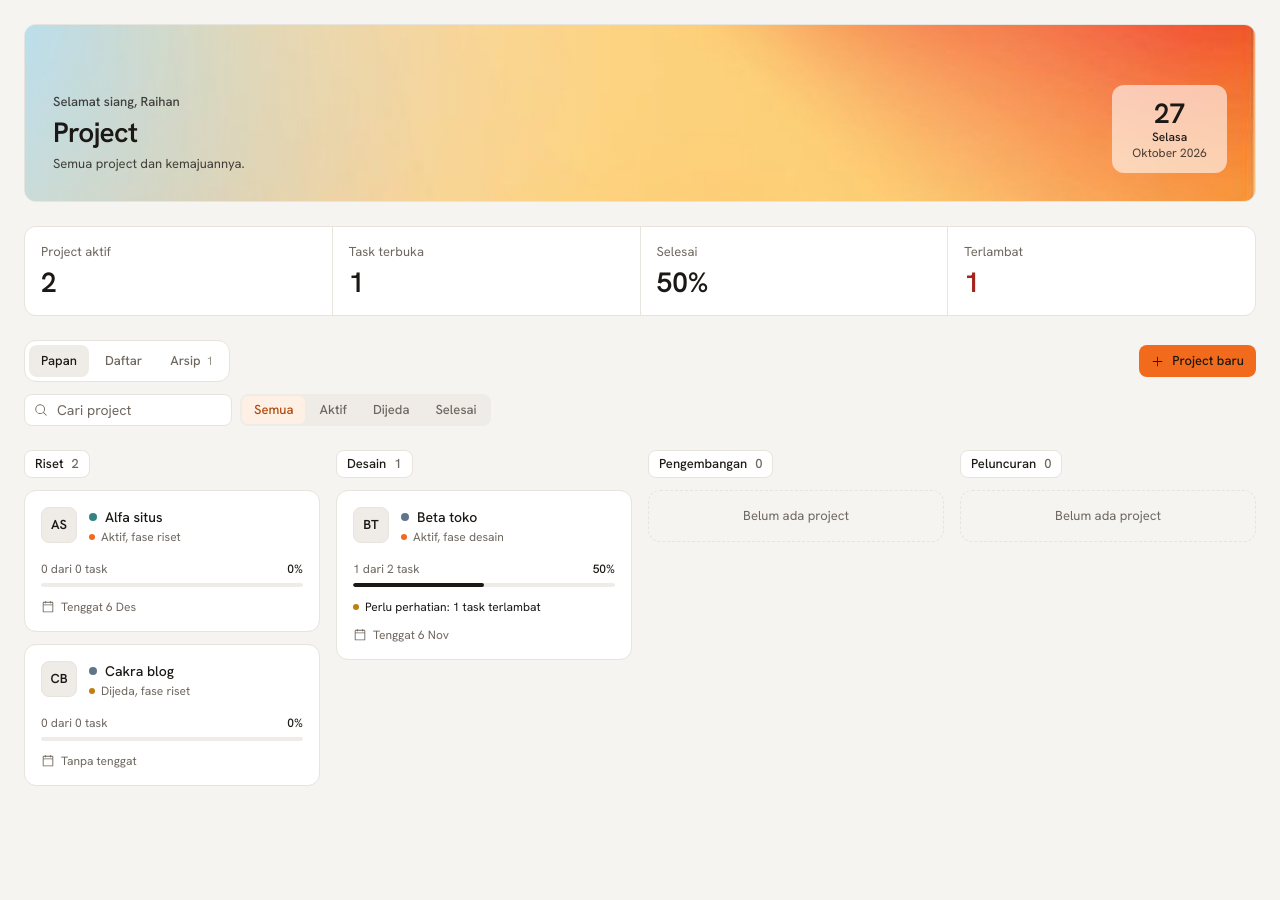
ProjectsPage › keeps the search and status filters working in every view
The image size is (1280, 900).
Step 1. Type "batik" into the search field with placeholder "Cari project" → (128, 410), box [24,394,232,426]
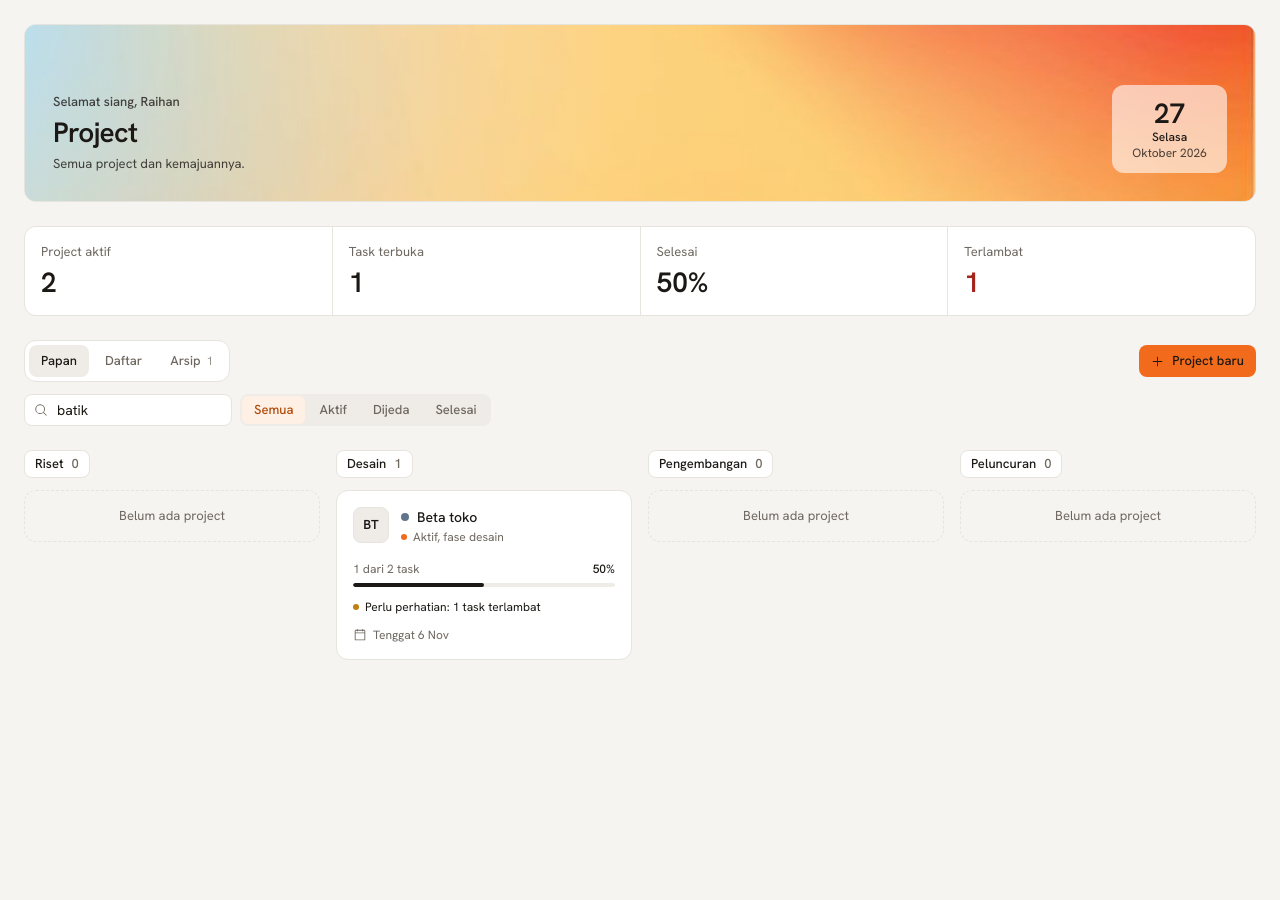
Expected: the text "Beta toko" is shown, [417,507,477,527]
Expected: the link "Alfa situs" is gone
Step 2. Clear the search field with placeholder "Cari project" → (128, 410), box [24,394,232,426]
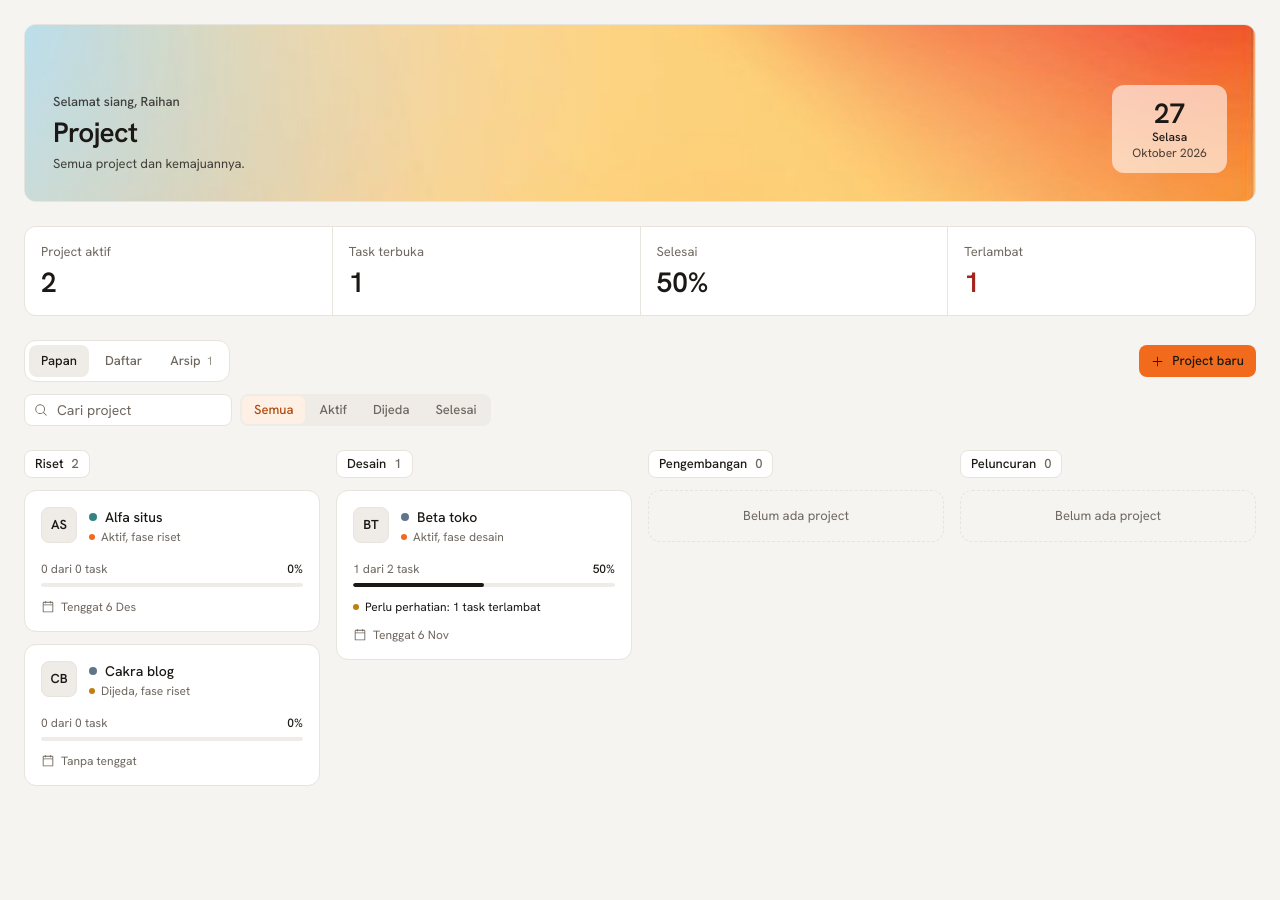
Step 3. Click the radio button labelled "Dijeda" → (391, 410), box [361,396,422,424]
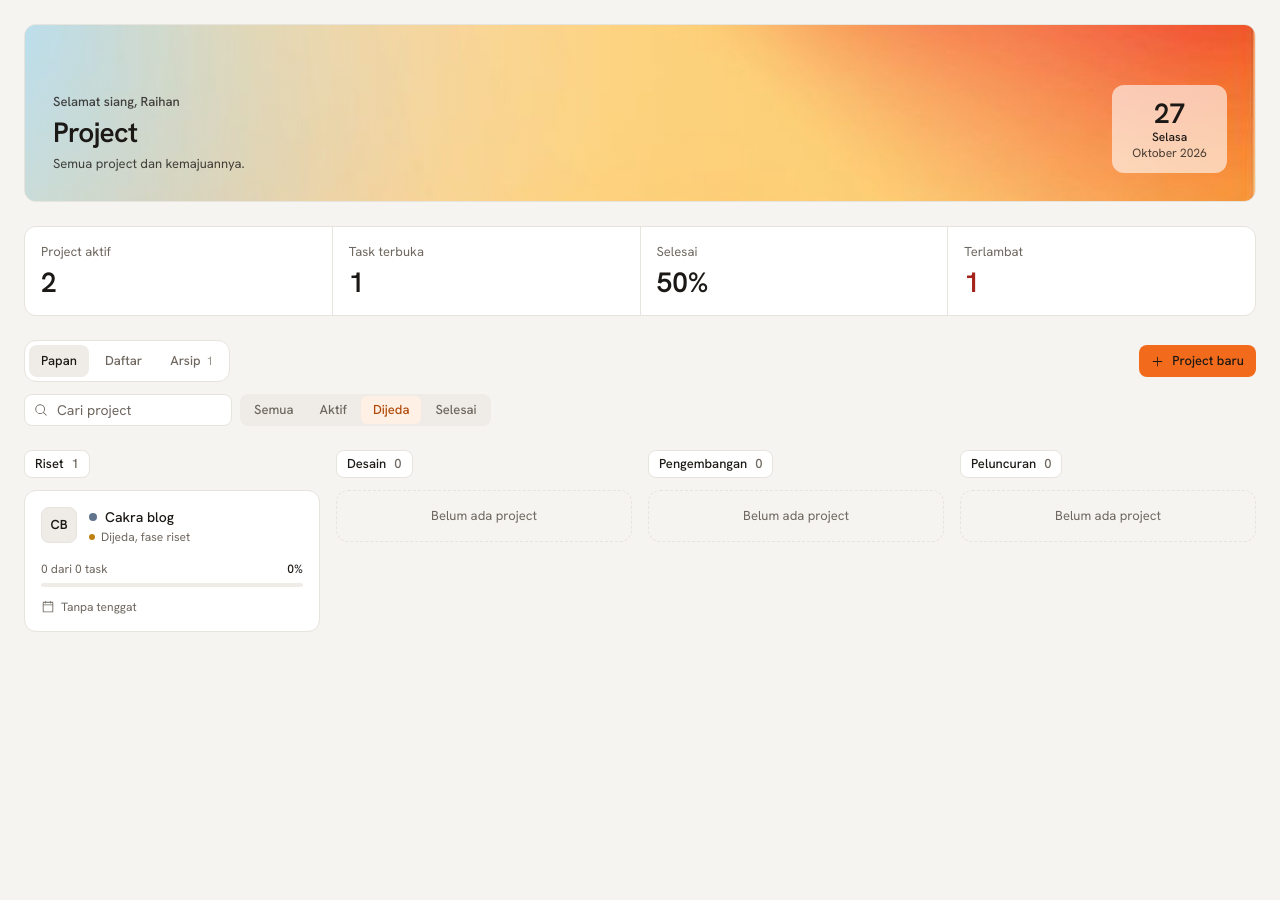
Expected: the text "Cakra blog" is shown, [105,507,174,527]
Expected: the link "Alfa situs" is gone
Step 4. Click the tab "Daftar" → (124, 361), box [93,345,154,377]
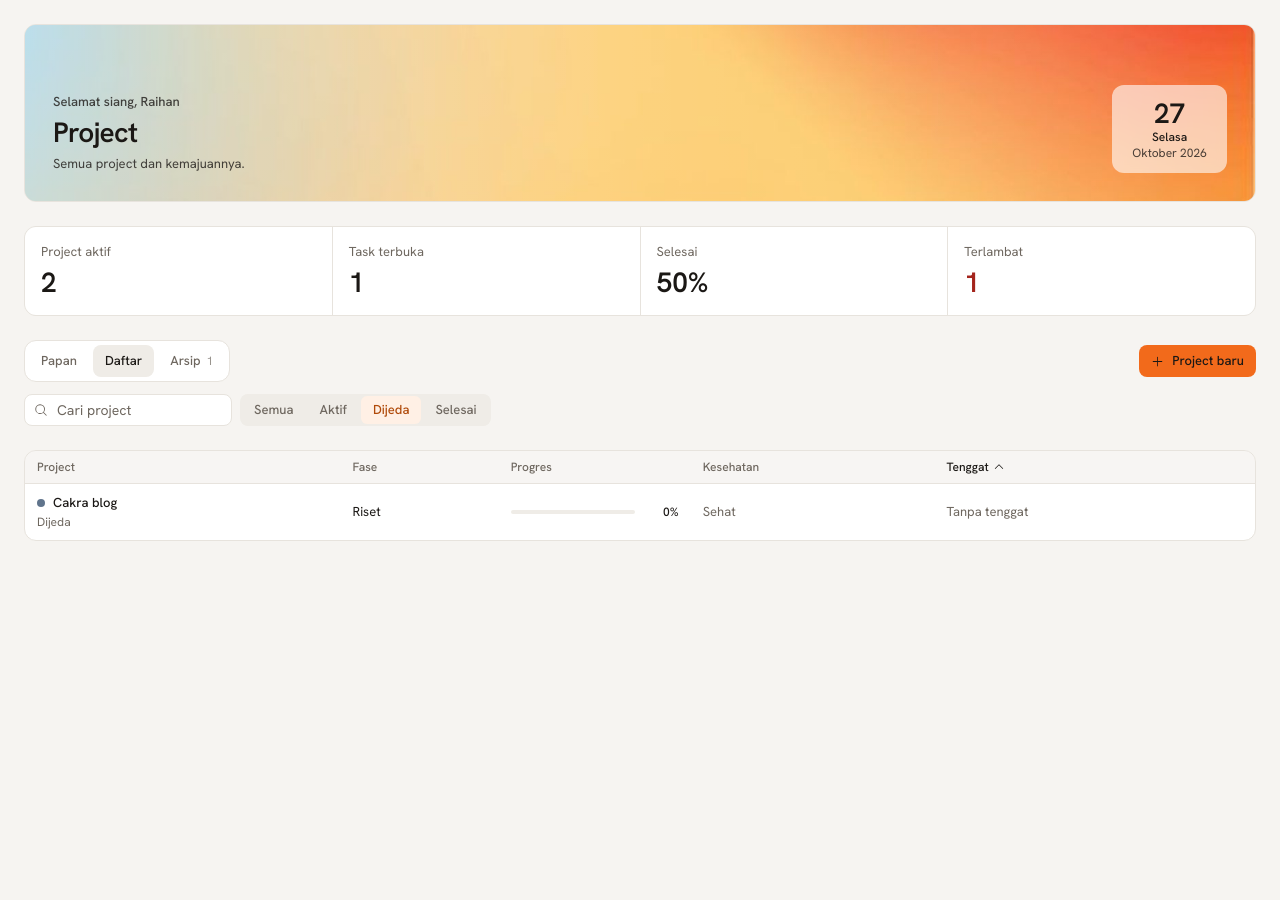
Expected: the number of rows is 2, [25,451,1255,484]; [25,484,1255,540]
Step 5. Type "zzz" into the search field with placeholder "Cari project" → (128, 410), box [24,394,232,426]
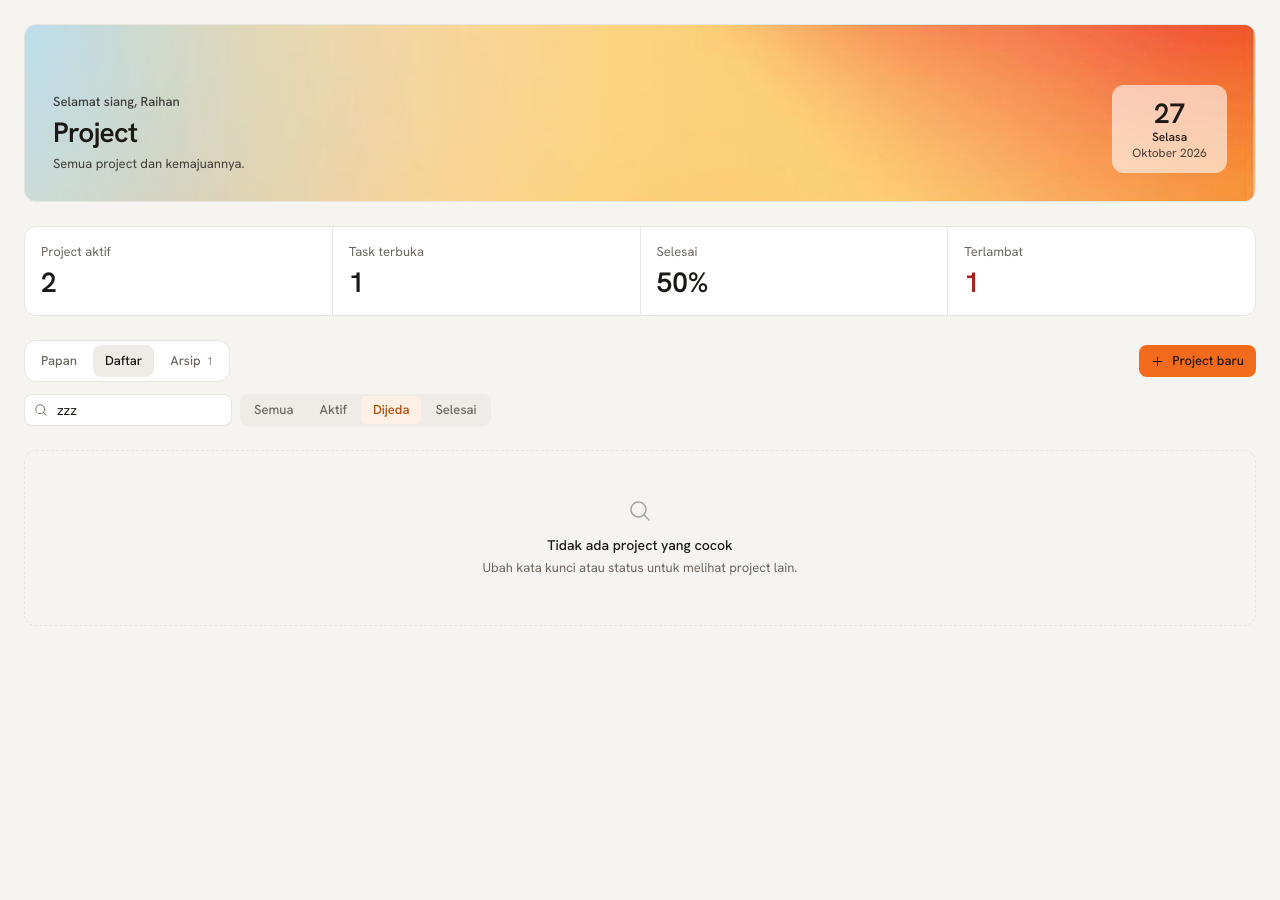
Expected: the text "Tidak ada project yang cocok" is shown, [547,536,733,554]
